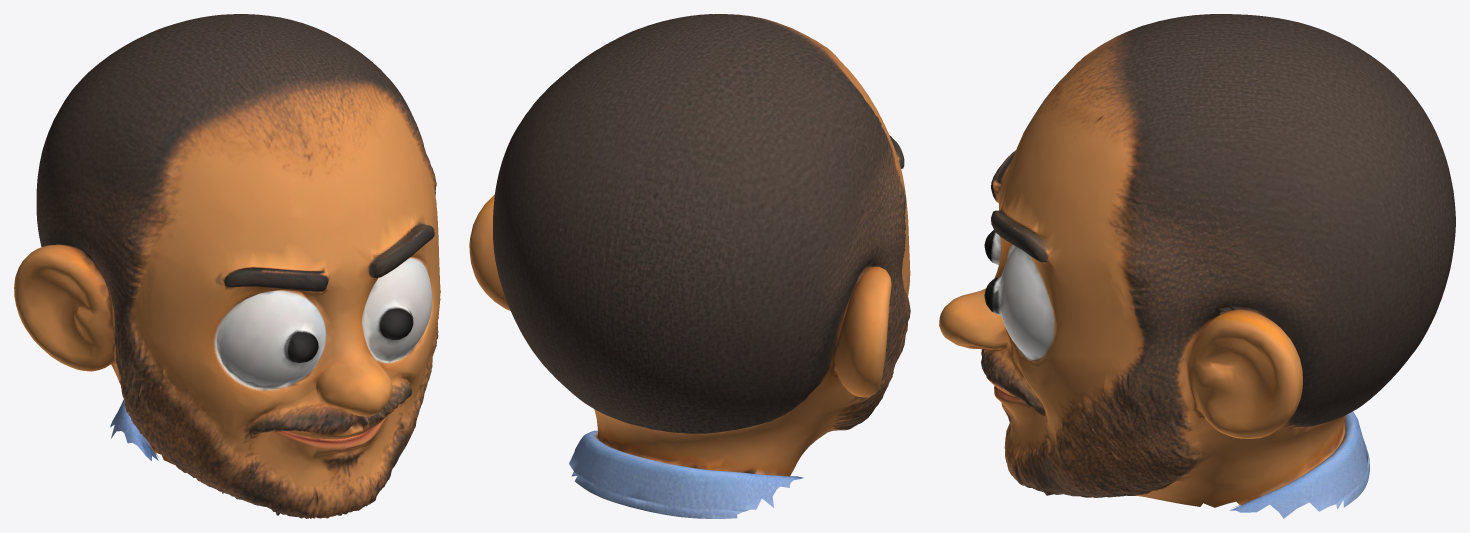
The model's file is humfrey-head.glb.
3 renders of one model, left to right at view 1: azimuth 30°, elevation 25°; view 2: azimuth 150°, elevation 25°; view 3: azimuth 270°, elevation 25°, orthographic. The views are drawn at different scales.
Visible parts, largest first — view 1: Face; view 2: Face; view 3: Face.
Boxes of the visible parts, x1,y1,x2,y2 form: Face: [14, 14, 440, 518]; Face: [469, 14, 910, 518]; Face: [939, 14, 1455, 518].
Size of what is drawn, in the model's own units: 1.08 by 1.04 by 1.12.
2 materials, 1 textured.
